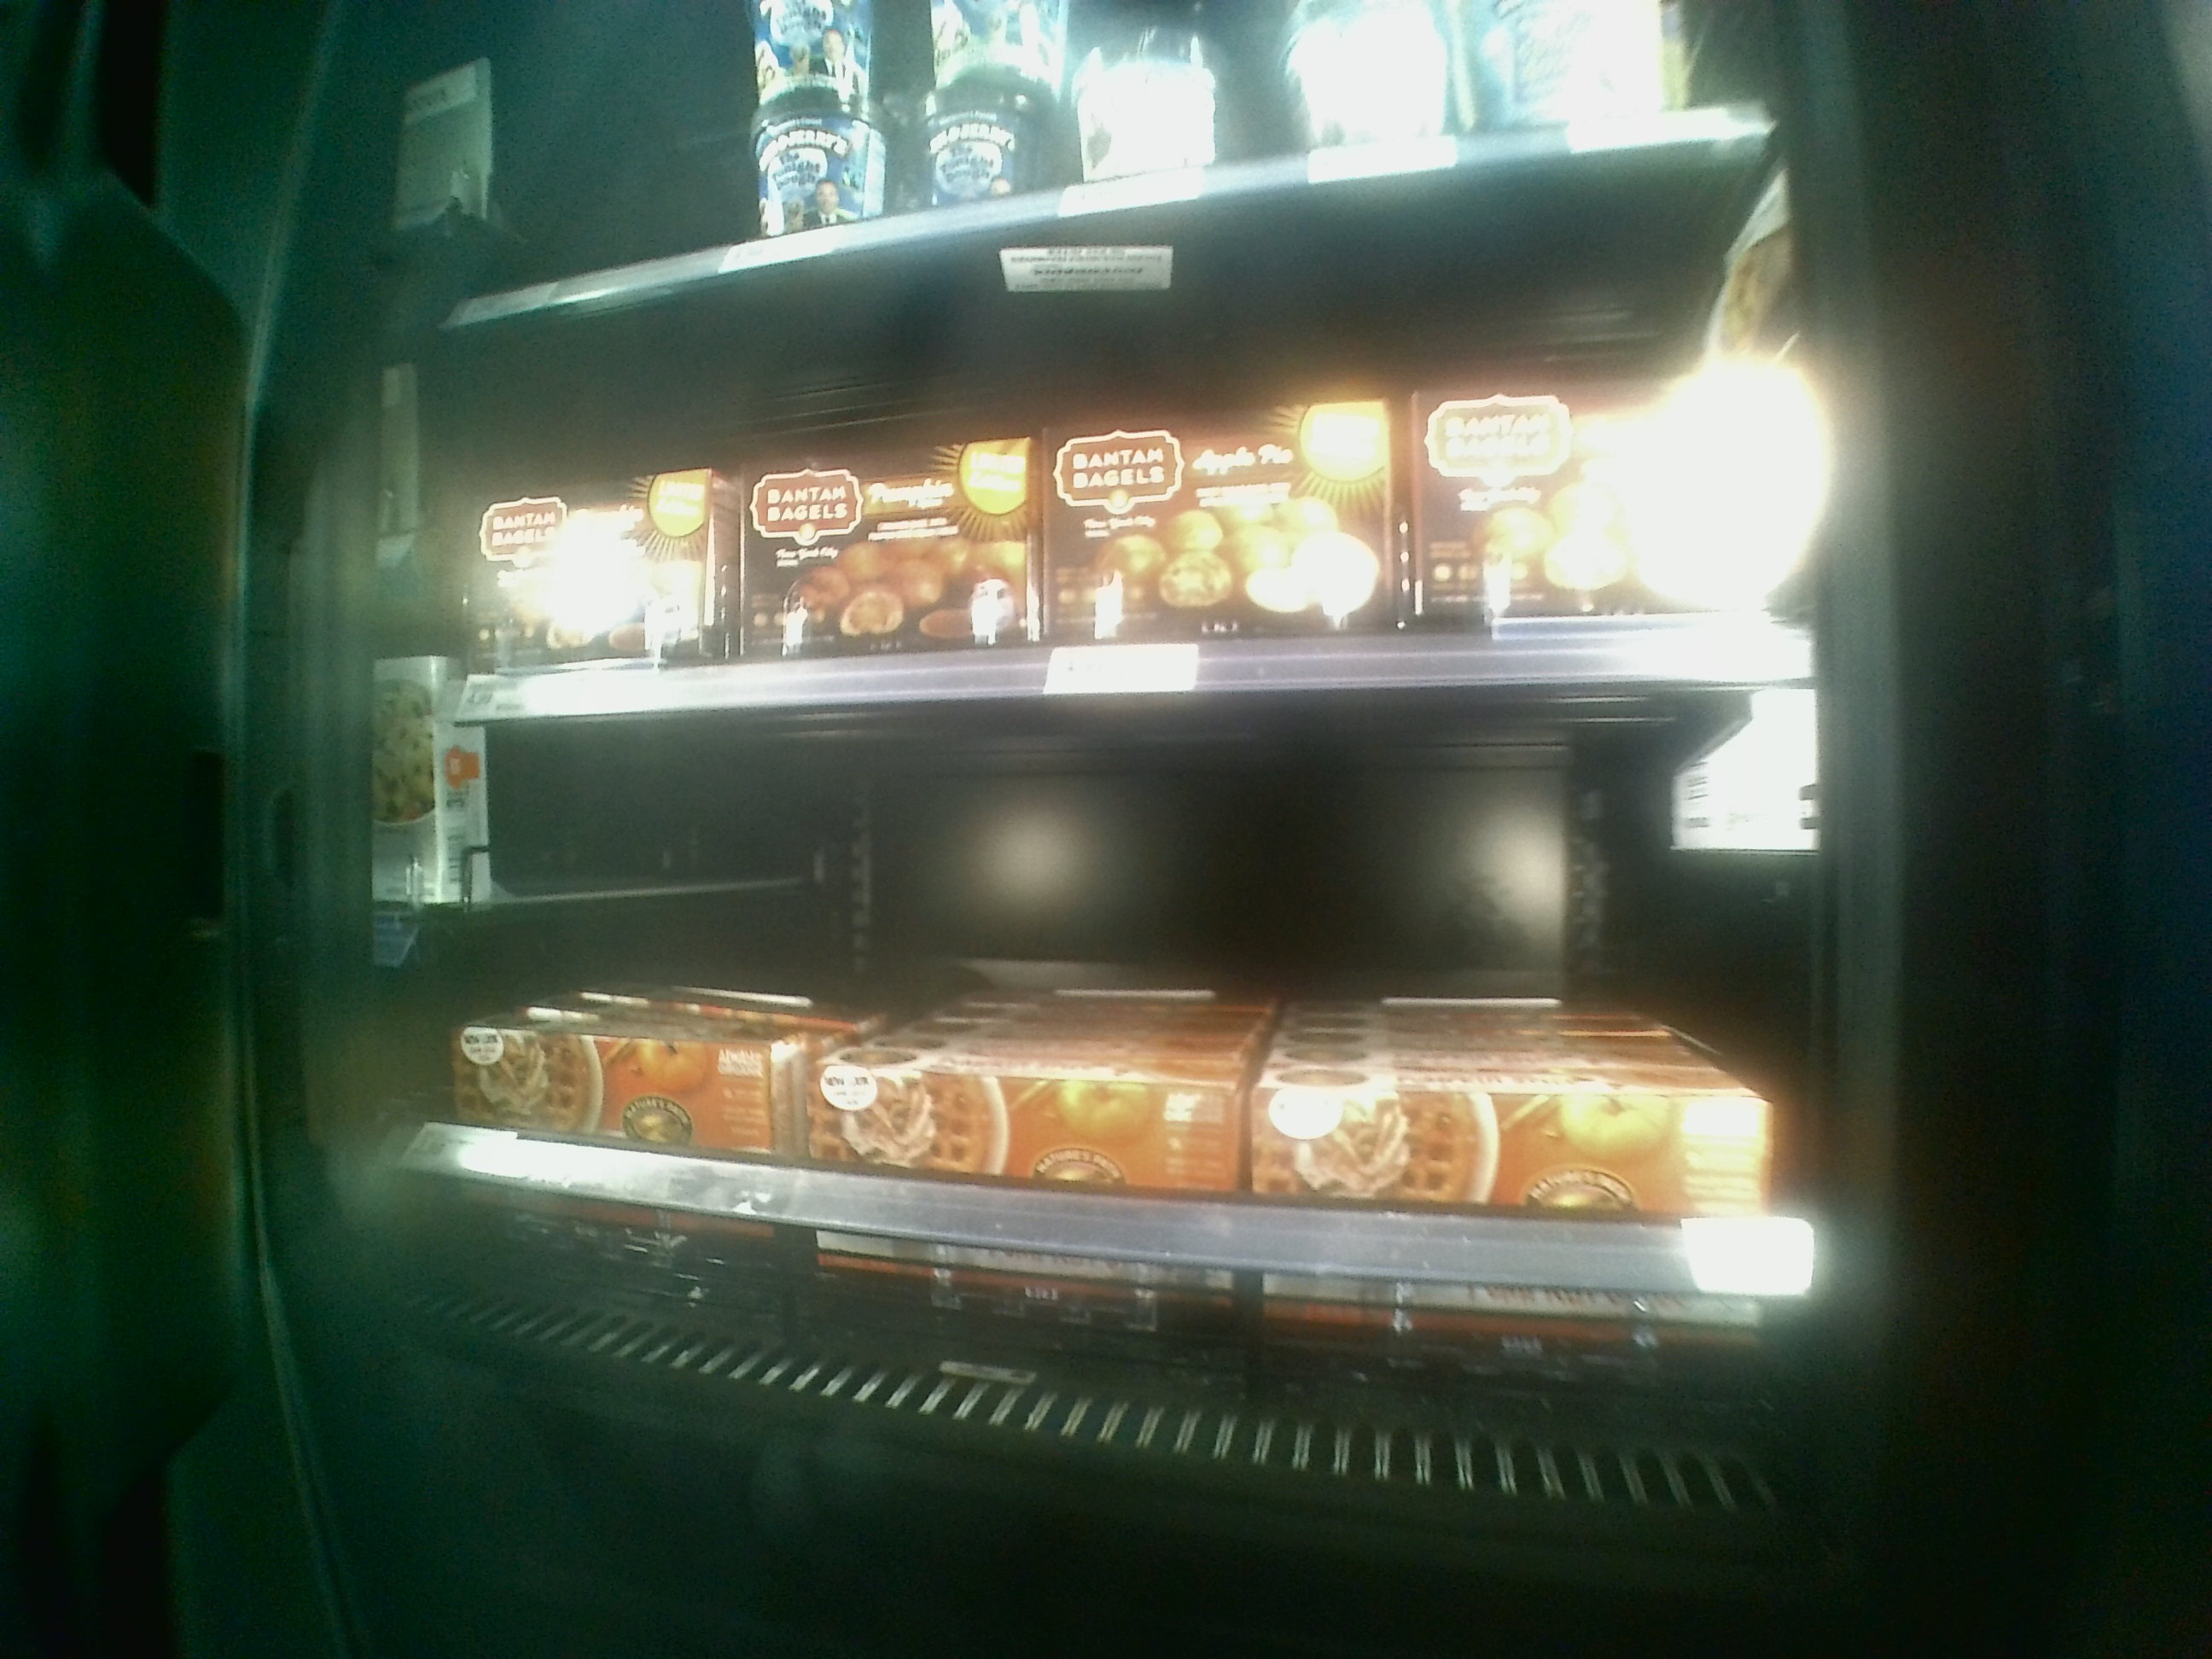shelf: (404, 708, 1827, 1534), (394, 288, 1820, 701)
